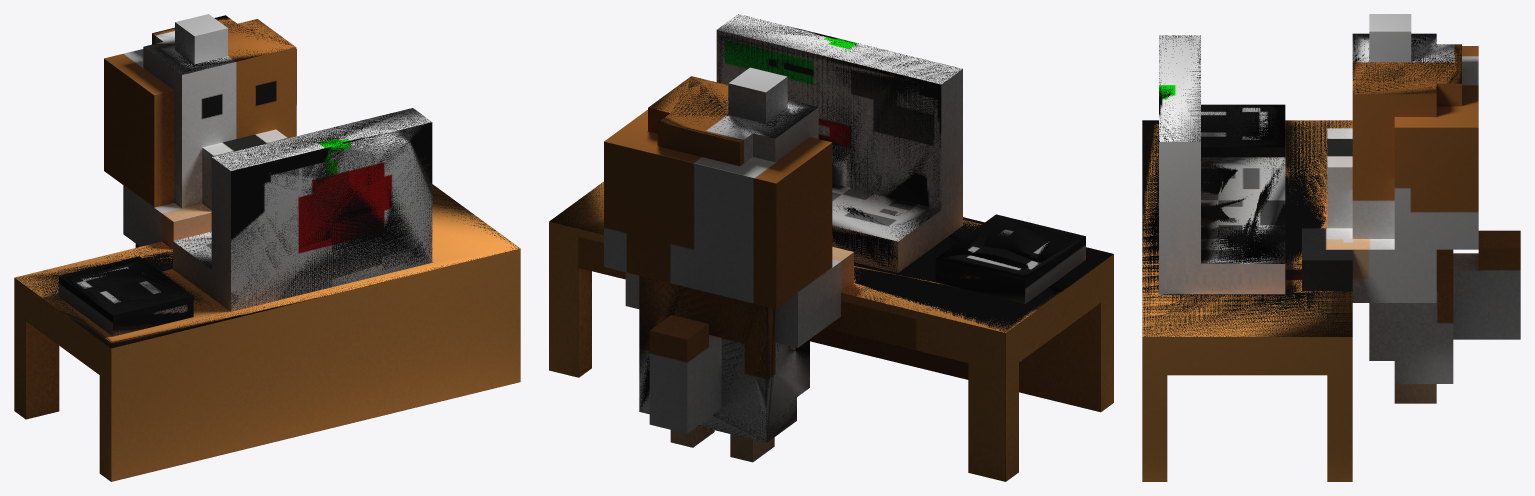
File: doggo.glb
The picture shows the model from 3 angles, left to right: view 1: azimuth 30°, elevation 25°; view 2: azimuth 150°, elevation 25°; view 3: azimuth 270°, elevation 25°; orthographic projection. The views are drawn at different scales.
Visible parts, largest first — view 1: dog-baked; view 2: dog-baked; view 3: dog-baked.
Boxes of the visible parts, x1,y1,x2,y2 form: dog-baked: [14, 14, 520, 481]; dog-baked: [549, 14, 1113, 481]; dog-baked: [1142, 14, 1520, 481].
Size of what is drawn, in the model's own units: 6.1 by 4.6 by 4.5.
1 material, 1 textured.
